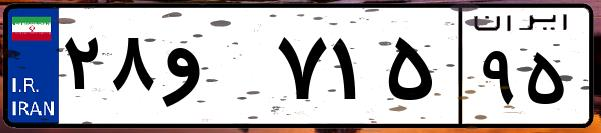1: (330, 28, 385, 110)
2: (57, 26, 110, 100)
5: (385, 28, 445, 110), (525, 38, 570, 115)
7: (270, 28, 330, 110)
8: (110, 28, 158, 98)
9: (475, 38, 525, 113)
و: (158, 20, 270, 120)
